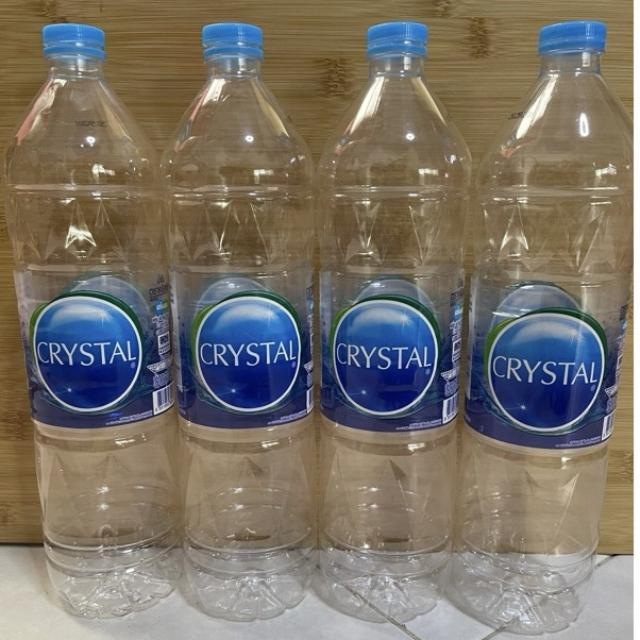PET Bottle: (8, 0, 178, 620), (317, 0, 470, 638), (159, 0, 312, 614), (470, 0, 610, 640)
